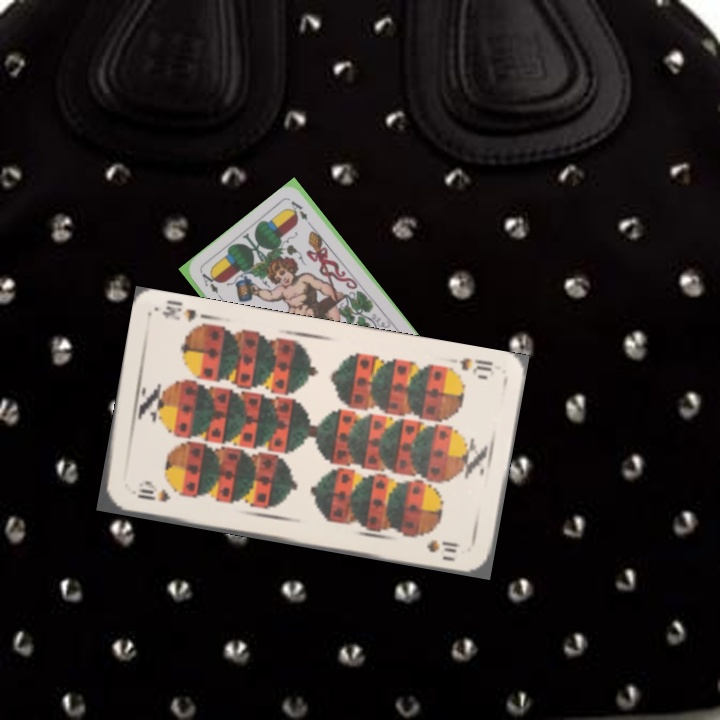EA: (198, 269, 226, 304)
S10: (455, 353, 496, 382), (133, 484, 172, 505)
